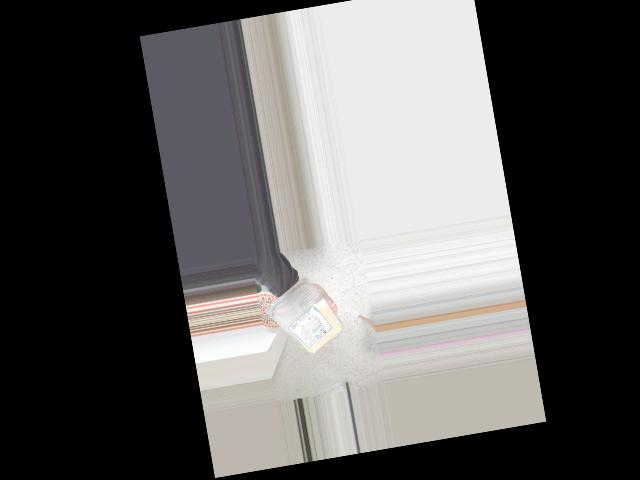cheese: (268, 280, 341, 361)
